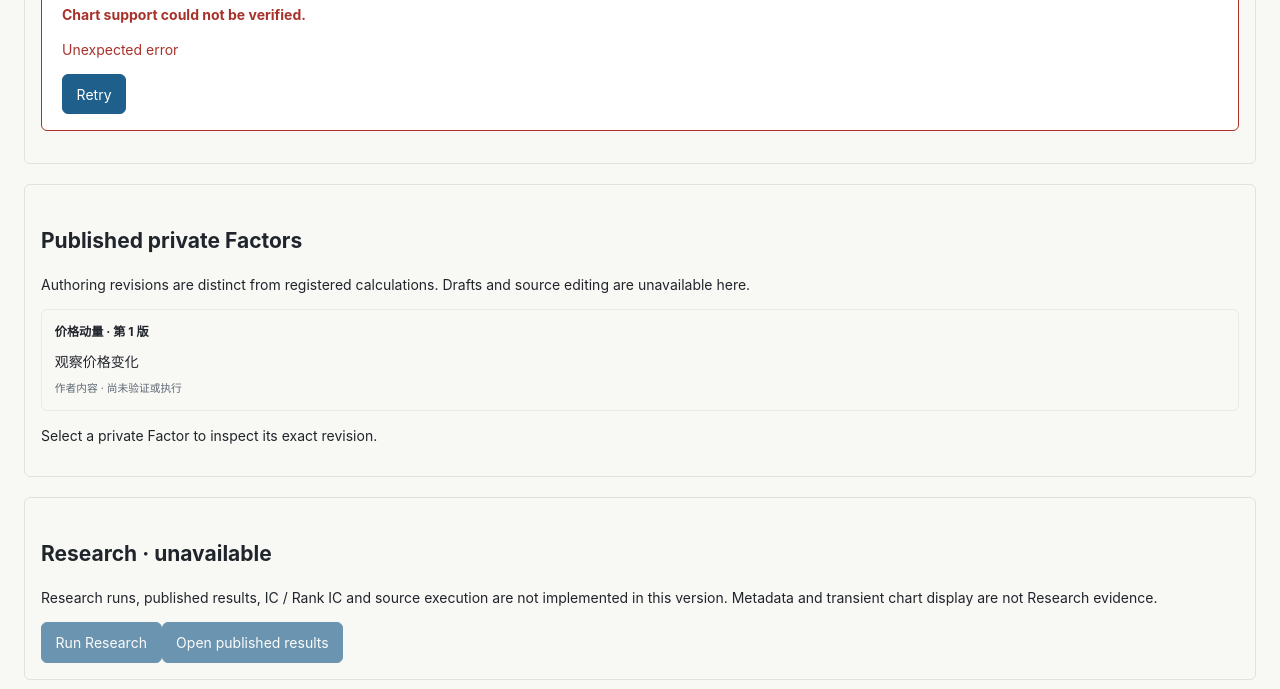
Test: shows actual private metadata and explicitly deferred Research without fetching Runs/results
The image size is (1280, 689).
(page scrolled)
Check: the text "价格动量 · 第 1 版" is shown, box [55,323,149,341]
Check: the button "Run Research" is disabled, box [41,622,162,663]
Click the button "价格动量 · 第 1 版 观察价格变化 作者内容 · 尚未验证或执行": {"x": 79, "y": 332} [41,309,1239,411]
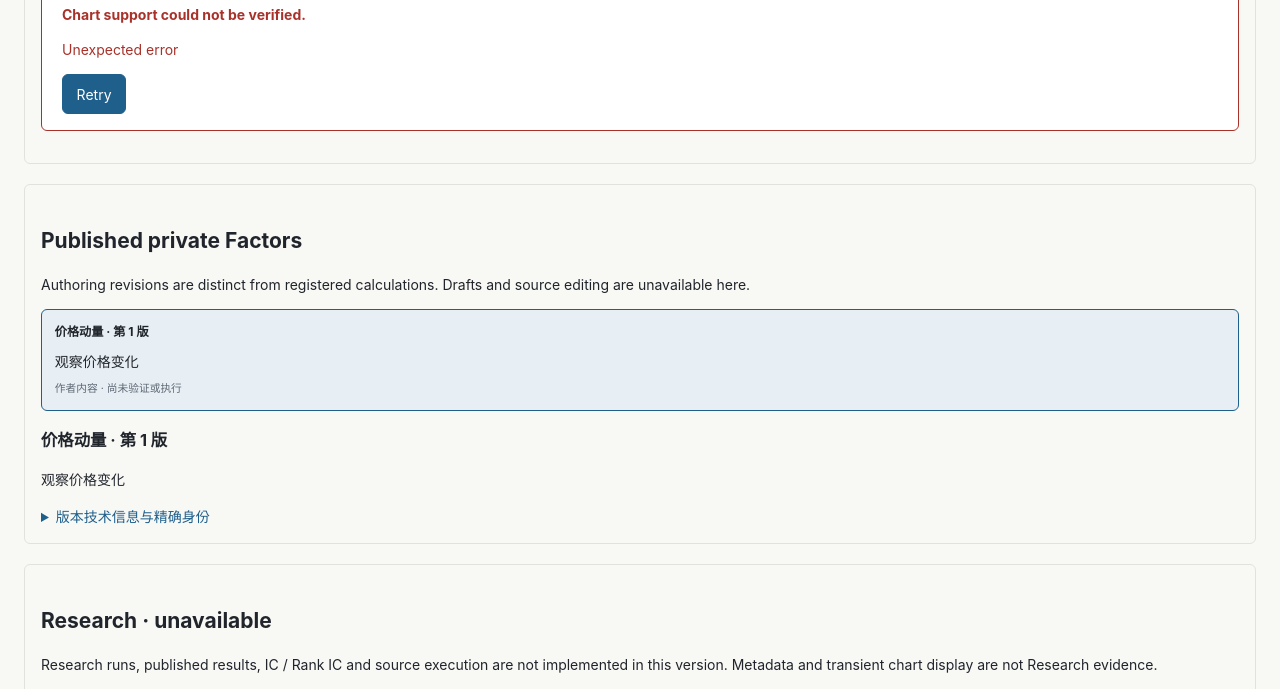
Check: the element named "Exact Factor metadata" is shown, box [41,430,210,525]
